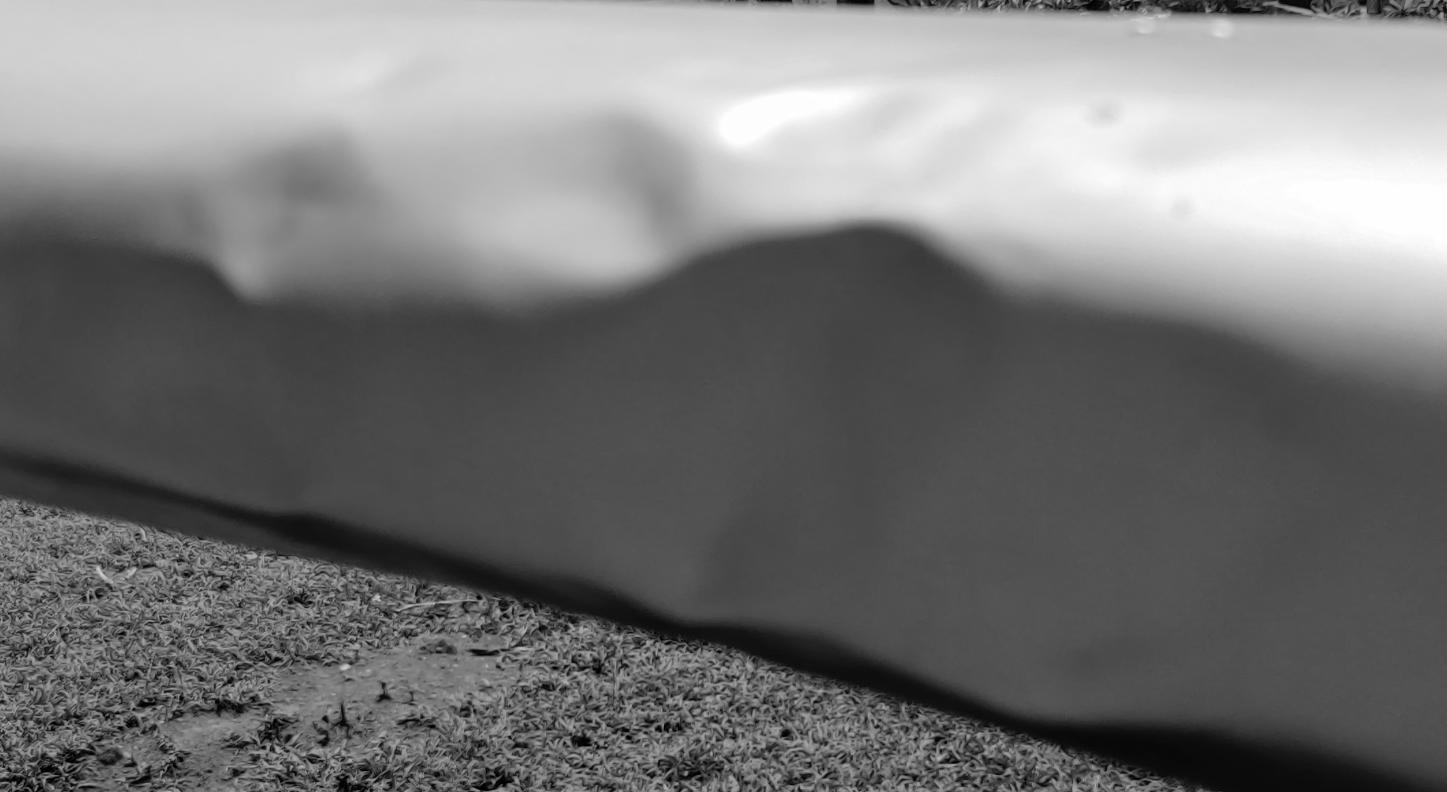dent: (0, 1, 1447, 792)
